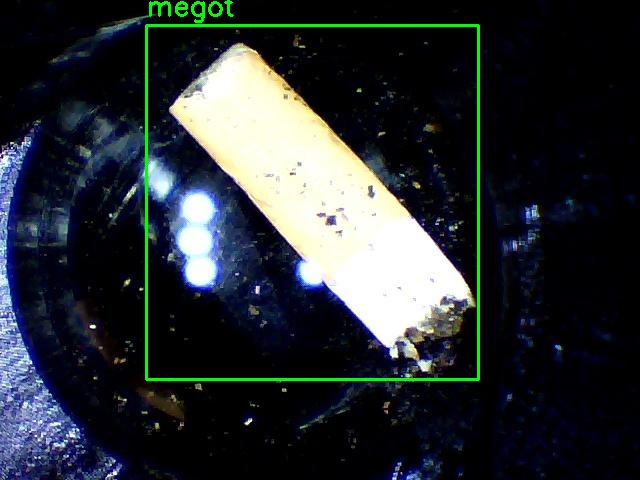megot: (146, 25, 478, 379)
